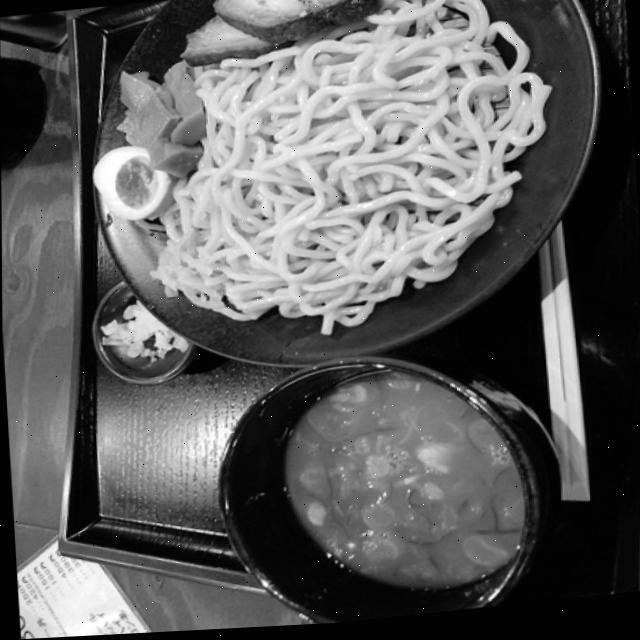面条主食: (96, 0, 574, 636)
